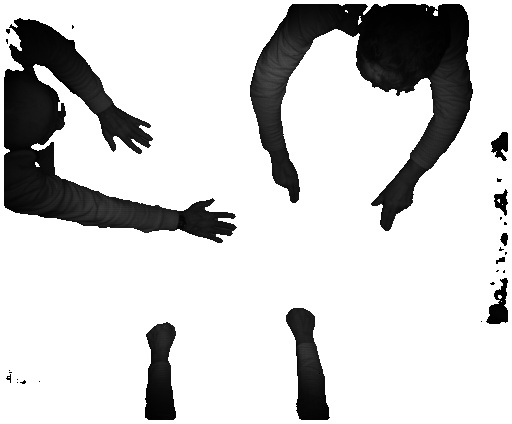fist: (280, 304, 319, 340), (144, 320, 175, 356)
hand: (185, 192, 239, 247), (104, 106, 159, 159), (368, 179, 415, 231), (273, 160, 303, 207)
